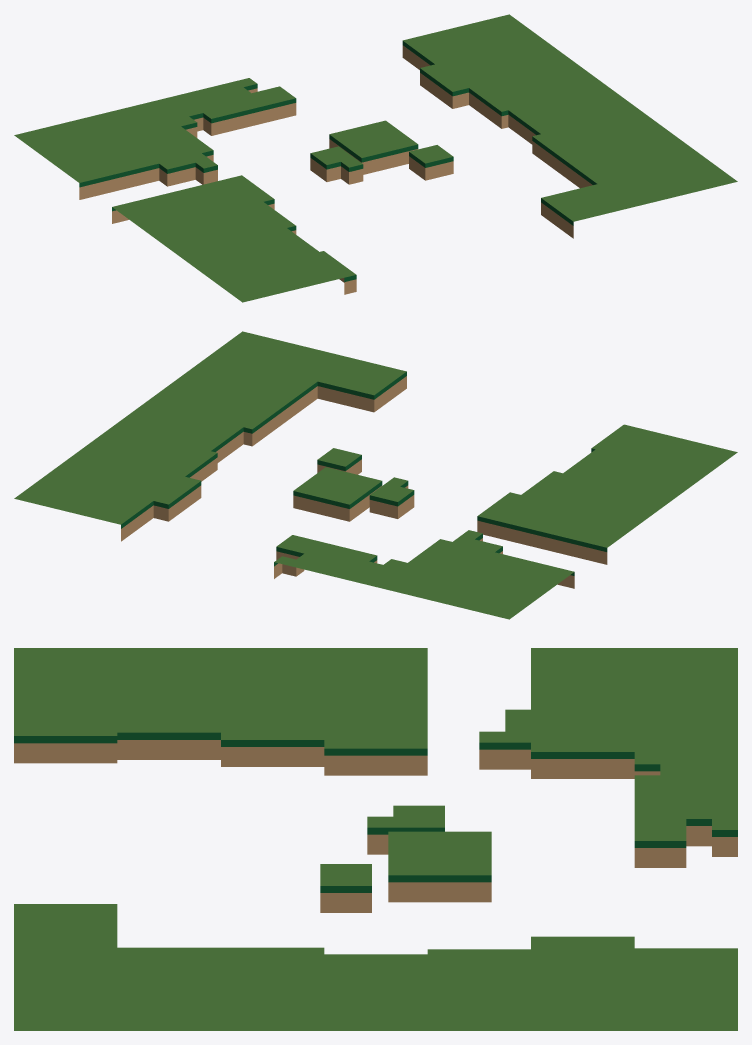
Rendered from DM_Env_Tile_02.fbx.
The picture shows the model from 3 angles, top to bottom: view 1: azimuth 30°, elevation 25°; view 2: azimuth 150°, elevation 25°; view 3: azimuth 270°, elevation 25°; orthographic projection. The views are drawn at different scales.
Visible parts, largest first — view 1: SM_Env_Tile_02; view 2: SM_Env_Tile_02; view 3: SM_Env_Tile_02.
Boxes of the visible parts, left/top/right/bottom form: SM_Env_Tile_02: left=14, top=14, right=737, bottom=302; SM_Env_Tile_02: left=14, top=331, right=737, bottom=619; SM_Env_Tile_02: left=14, top=648, right=737, bottom=1030.
Size of the model in its own units: 87.59 by 70 by 2.89.
